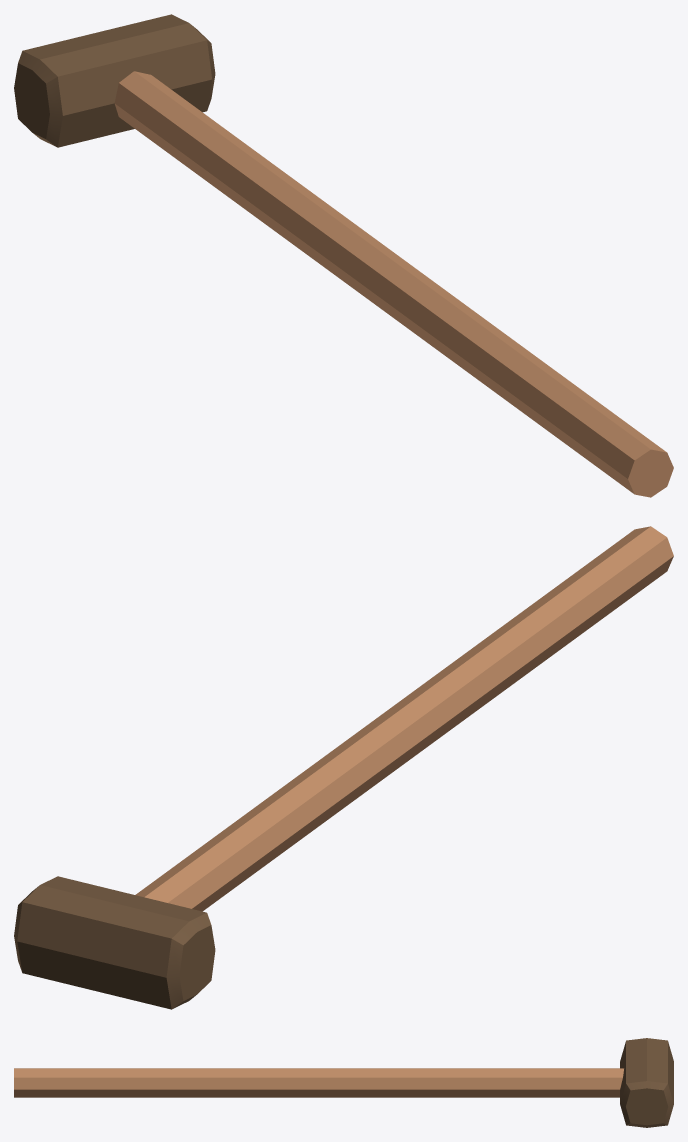
The picture shows the model from 3 angles, top to bottom: view 1: azimuth 30°, elevation 25°; view 2: azimuth 150°, elevation 25°; view 3: azimuth 270°, elevation 25°; orthographic projection. The views are drawn at different scales.
Parts seen in each view (by area): view 1: shaft, barrel; view 2: shaft, barrel; view 3: shaft, barrel.
Boxes of the visible parts, bbox=[...] form: shaft: bbox=[114, 71, 673, 497]; barrel: bbox=[14, 14, 215, 147]; shaft: bbox=[135, 526, 673, 911]; barrel: bbox=[14, 876, 215, 1009]; shaft: bbox=[14, 1068, 623, 1097]; barrel: bbox=[620, 1038, 673, 1127].
Size of the model in its own units: 0.205 by 0.0941 by 1.2.
